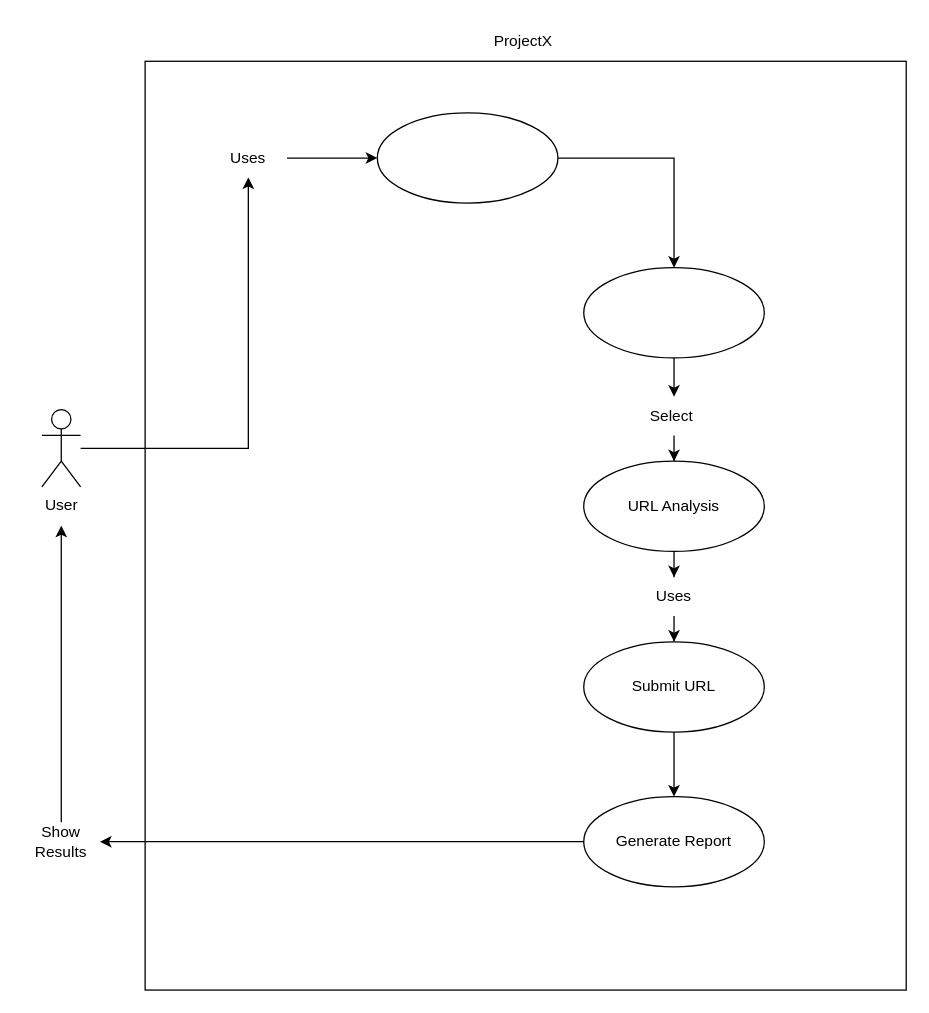
Some shapes in this 929 by 1013 pixel diagram are drawn without their labels. Here are the shapes that lost their labels. From the top down, the centre of each, then its label:
At [467,157]: "Login".
At [673,312]: "Threath Analysis".
